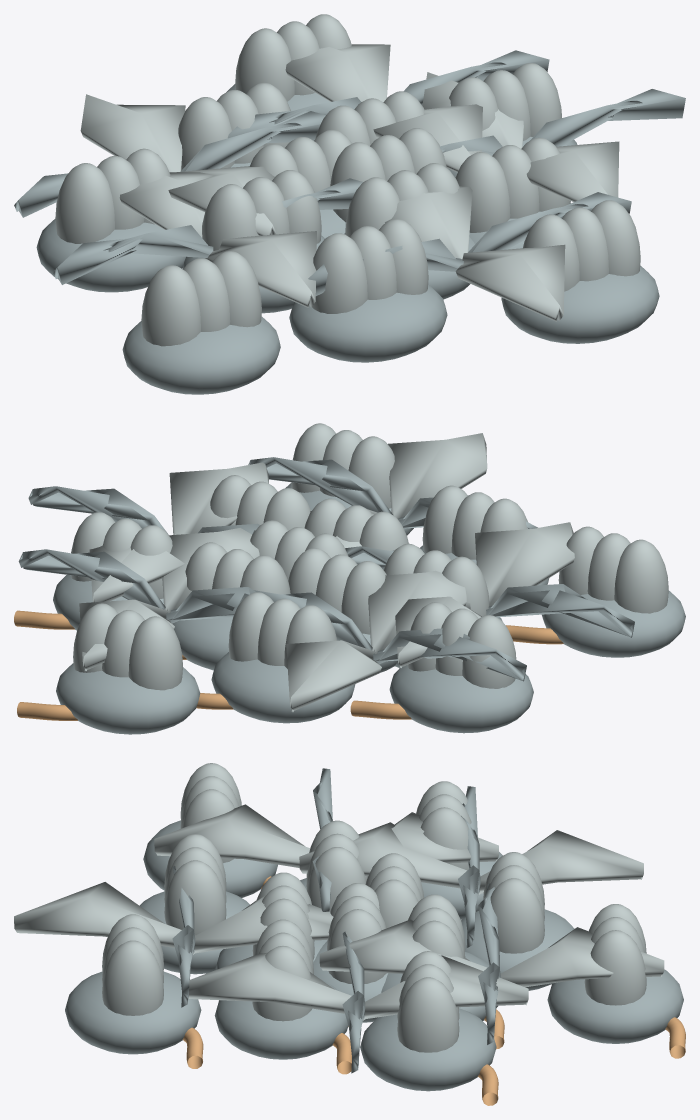
The model's file is bio_acid_mat_20_near.glb.
3 renders of one model, top to bottom at view 1: azimuth 30°, elevation 25°; view 2: azimuth 150°, elevation 25°; view 3: azimuth 270°, elevation 25°, orthographic. The views are drawn at different scales.
Parts seen in each view (by area): view 1: Low buttress leaf.009, Reaction vesicle.036, Microbial cushion.012, Microbial cushion.007, Reaction vesicle.021, Low buttress leaf.013, Low buttress leaf.017, Low buttress leaf.005, Microbial cushion.010, Reaction vesicle.027, Reaction vesicle.030, Reaction vesicle.015 (+17 smaller); view 2: Low buttress leaf.005, Low buttress leaf.017, Microbial cushion.011, Reaction vesicle.036, Reaction vesicle.033, Microbial cushion.009, Low buttress leaf.001, Low buttress leaf.009, Reaction vesicle.018, Low buttress leaf.012, Microbial cushion.006, Microbial cushion.012 (+22 smaller); view 3: Low buttress leaf.001, Low buttress leaf.009, Low buttress leaf.013, Low buttress leaf.005, Low buttress leaf.017, Microbial cushion.008, Microbial cushion.010, Microbial cushion.011, Reaction vesicle.030, Microbial cushion.005, Reaction vesicle.024, Reaction vesicle.033 (+26 smaller).
Boxes of the visible parts, x1,y1,x2,y2 form: Low buttress leaf.009: [385, 179, 565, 321]; Reaction vesicle.036: [141, 251, 261, 346]; Microbial cushion.012: [122, 317, 280, 394]; Microbial cushion.007: [289, 284, 447, 362]; Reaction vesicle.021: [312, 219, 428, 313]; Low buttress leaf.013: [285, 44, 482, 172]; Low buttress leaf.017: [119, 172, 316, 307]; Low buttress leaf.005: [80, 94, 276, 235]; Microbial cushion.010: [501, 265, 659, 343]; Reaction vesicle.027: [55, 148, 170, 243]; Reaction vesicle.030: [523, 200, 640, 291]; Reaction vesicle.015: [455, 137, 570, 232]; Low buttress leaf.005: [286, 570, 466, 711]; Low buttress leaf.017: [395, 522, 574, 667]; Microbial cushion.011: [56, 663, 200, 734]; Reaction vesicle.036: [558, 526, 668, 613]; Reaction vesicle.033: [73, 603, 182, 690]; Microbial cushion.009: [389, 665, 533, 733]; Low buttress leaf.001: [89, 462, 268, 602]; Low buttress leaf.009: [310, 433, 487, 548]; Reaction vesicle.018: [228, 592, 337, 668]; Low buttress leaf.012: [18, 549, 255, 623]; Microbial cushion.006: [211, 652, 355, 723]; Microbial cushion.012: [542, 590, 685, 657]; Low buttress leaf.001: [188, 952, 528, 1020]; Low buttress leaf.009: [14, 882, 333, 954]; Low buttress leaf.013: [319, 919, 664, 987]; Low buttress leaf.005: [299, 822, 643, 895]; Low buttress leaf.017: [154, 804, 498, 867]; Microbial cushion.008: [360, 1008, 496, 1091]; Microbial cushion.010: [65, 971, 201, 1054]; Microbial cushion.011: [547, 969, 683, 1043]; Reaction vesicle.030: [102, 914, 163, 1015]; Microbial cushion.005: [214, 979, 348, 1059]; Reaction vesicle.024: [397, 951, 459, 1052]; Reaction vesicle.033: [584, 904, 646, 1005].
Size of the model in its own units: 2.22 by 0.4 by 2.16.
